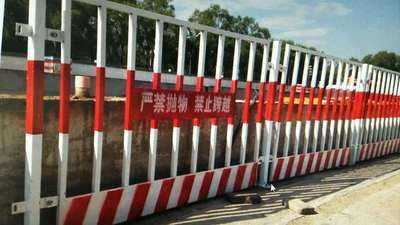sign: (15, 1, 265, 206), (267, 27, 400, 183)
